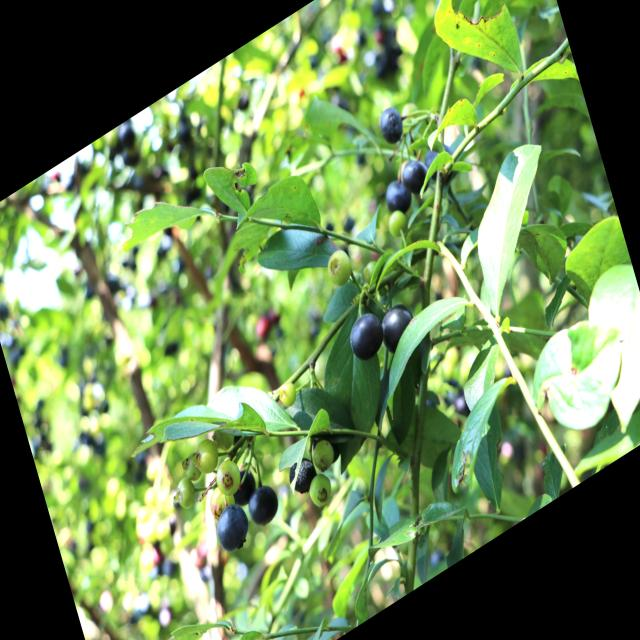blueberry: (375, 295, 423, 361), (344, 300, 388, 368), (210, 497, 254, 562), (418, 134, 459, 194), (245, 481, 282, 534), (284, 451, 319, 500), (400, 152, 432, 202), (383, 173, 416, 220), (377, 102, 407, 149), (228, 465, 259, 508)
blueberry-unripe: (319, 242, 357, 297), (192, 431, 224, 480), (169, 473, 199, 516), (383, 204, 411, 246), (214, 456, 242, 498), (307, 470, 335, 511), (310, 436, 338, 476), (180, 452, 202, 485)
